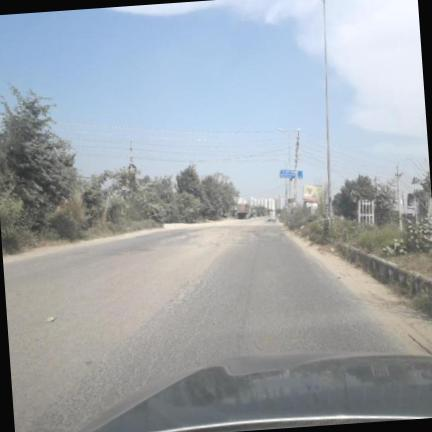Road: (3, 219, 403, 431)
